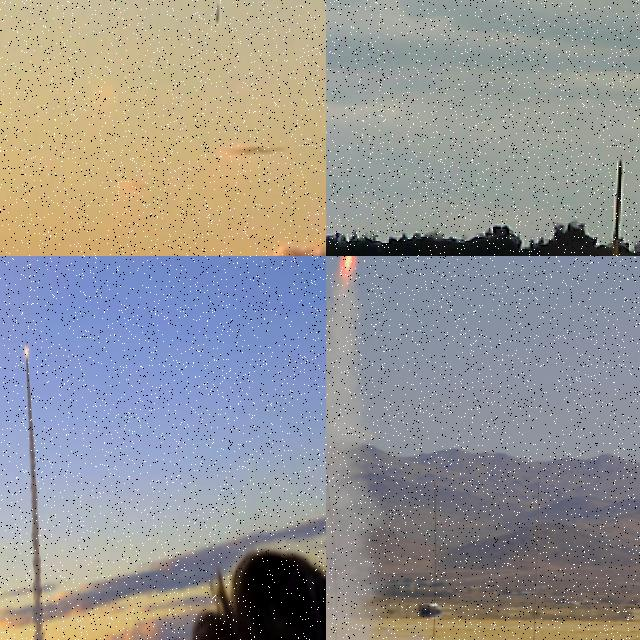Rocket: (608, 158, 626, 256), (215, 3, 220, 24), (25, 336, 28, 350)
